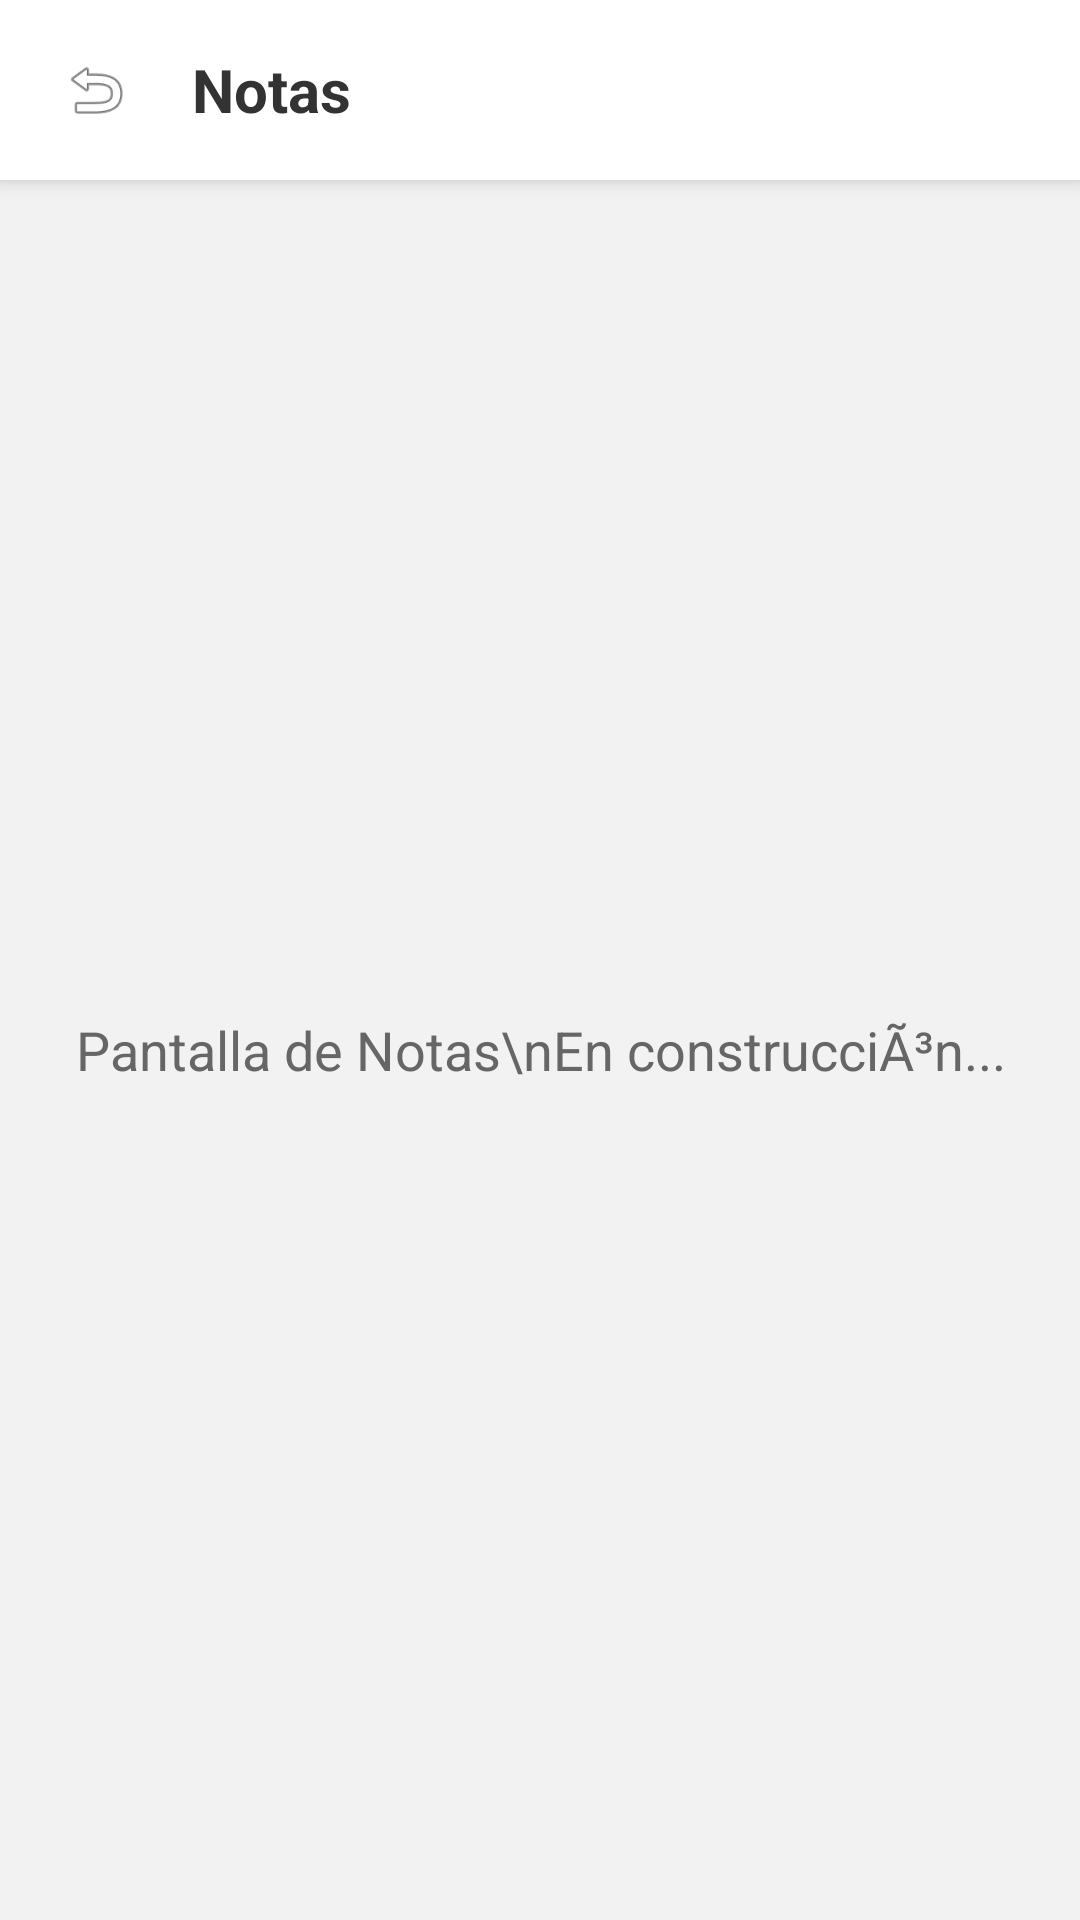

Point at icon controls on the screen. Image size 1080 x 1920, points as [x,y].
revert: [97,90]
